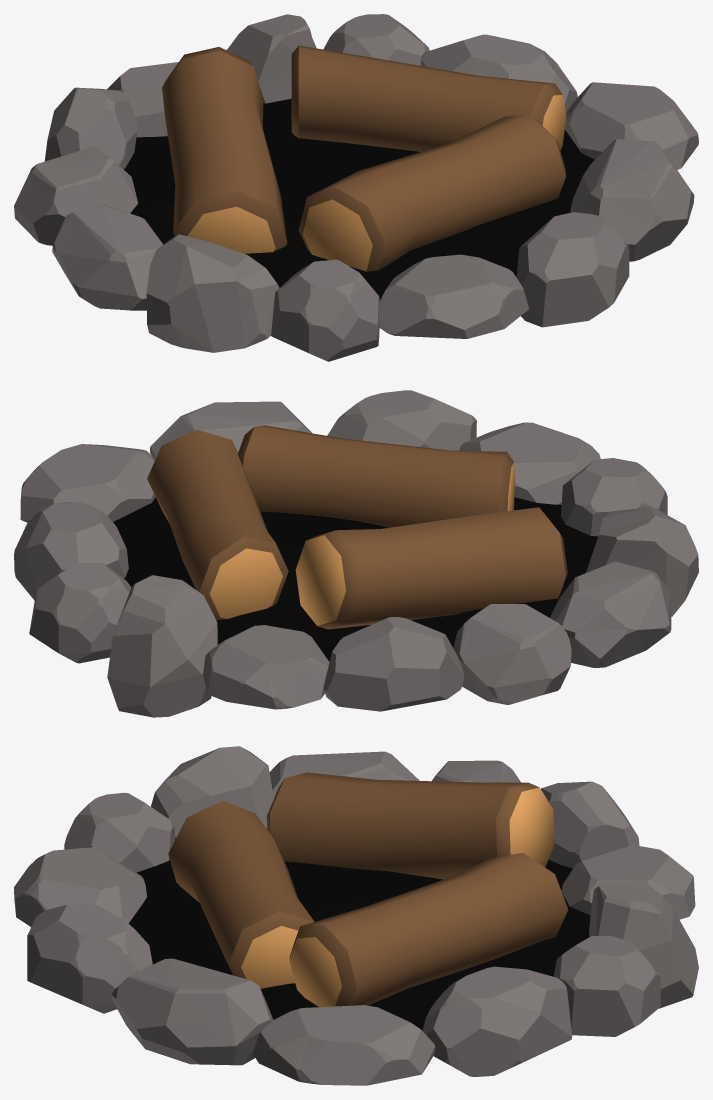
File: S_firepit.fbx
3 renders of one model, top to bottom at view 1: azimuth 30°, elevation 25°; view 2: azimuth 150°, elevation 25°; view 3: azimuth 270°, elevation 25°, orthographic.
Parts seen in each view (by area): view 1: firepit; view 2: firepit; view 3: firepit.
Boxes of the visible parts, x1,y1,x2,y2 form: firepit: [14, 14, 698, 361]; firepit: [14, 390, 698, 717]; firepit: [14, 746, 698, 1085].
Size of the model in its own units: 113 by 27.29 by 107.
